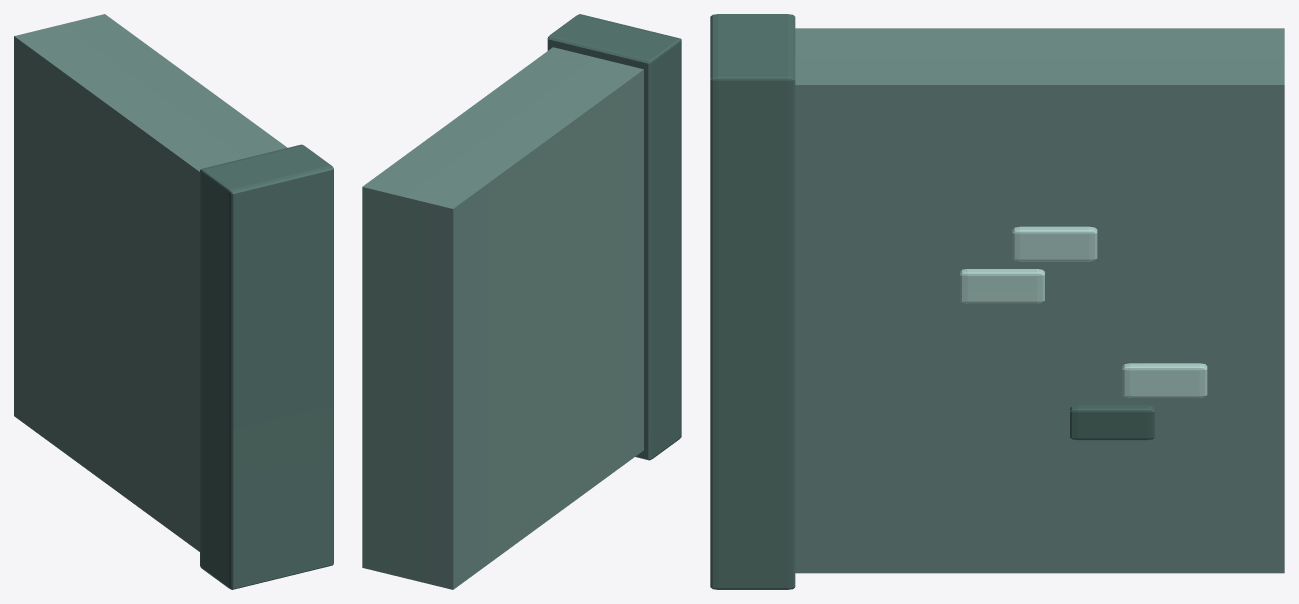
File: wallwPillarLeft.fbx
3 views of the same model, side by side, from view 1: azimuth 30°, elevation 25°; view 2: azimuth 150°, elevation 25°; view 3: azimuth 270°, elevation 25° (orthographic). The views are drawn at different scales.
Visible parts, largest first — view 1: wallwPillar 1; view 2: wallwPillar 1; view 3: wallwPillar 1.
Part boxes in pixels (x1=…): wallwPillar 1: x1=14, y1=14, x2=333, y2=589; wallwPillar 1: x1=362, y1=14, x2=681, y2=589; wallwPillar 1: x1=710, y1=14, x2=1284, y2=589.
Bounding box in the file's own units: 114 × 420 × 426.
